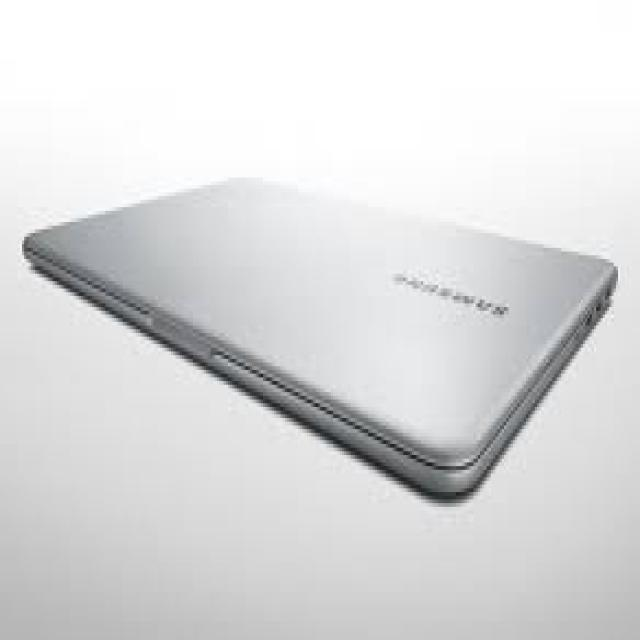laptop: (21, 173, 618, 500)
